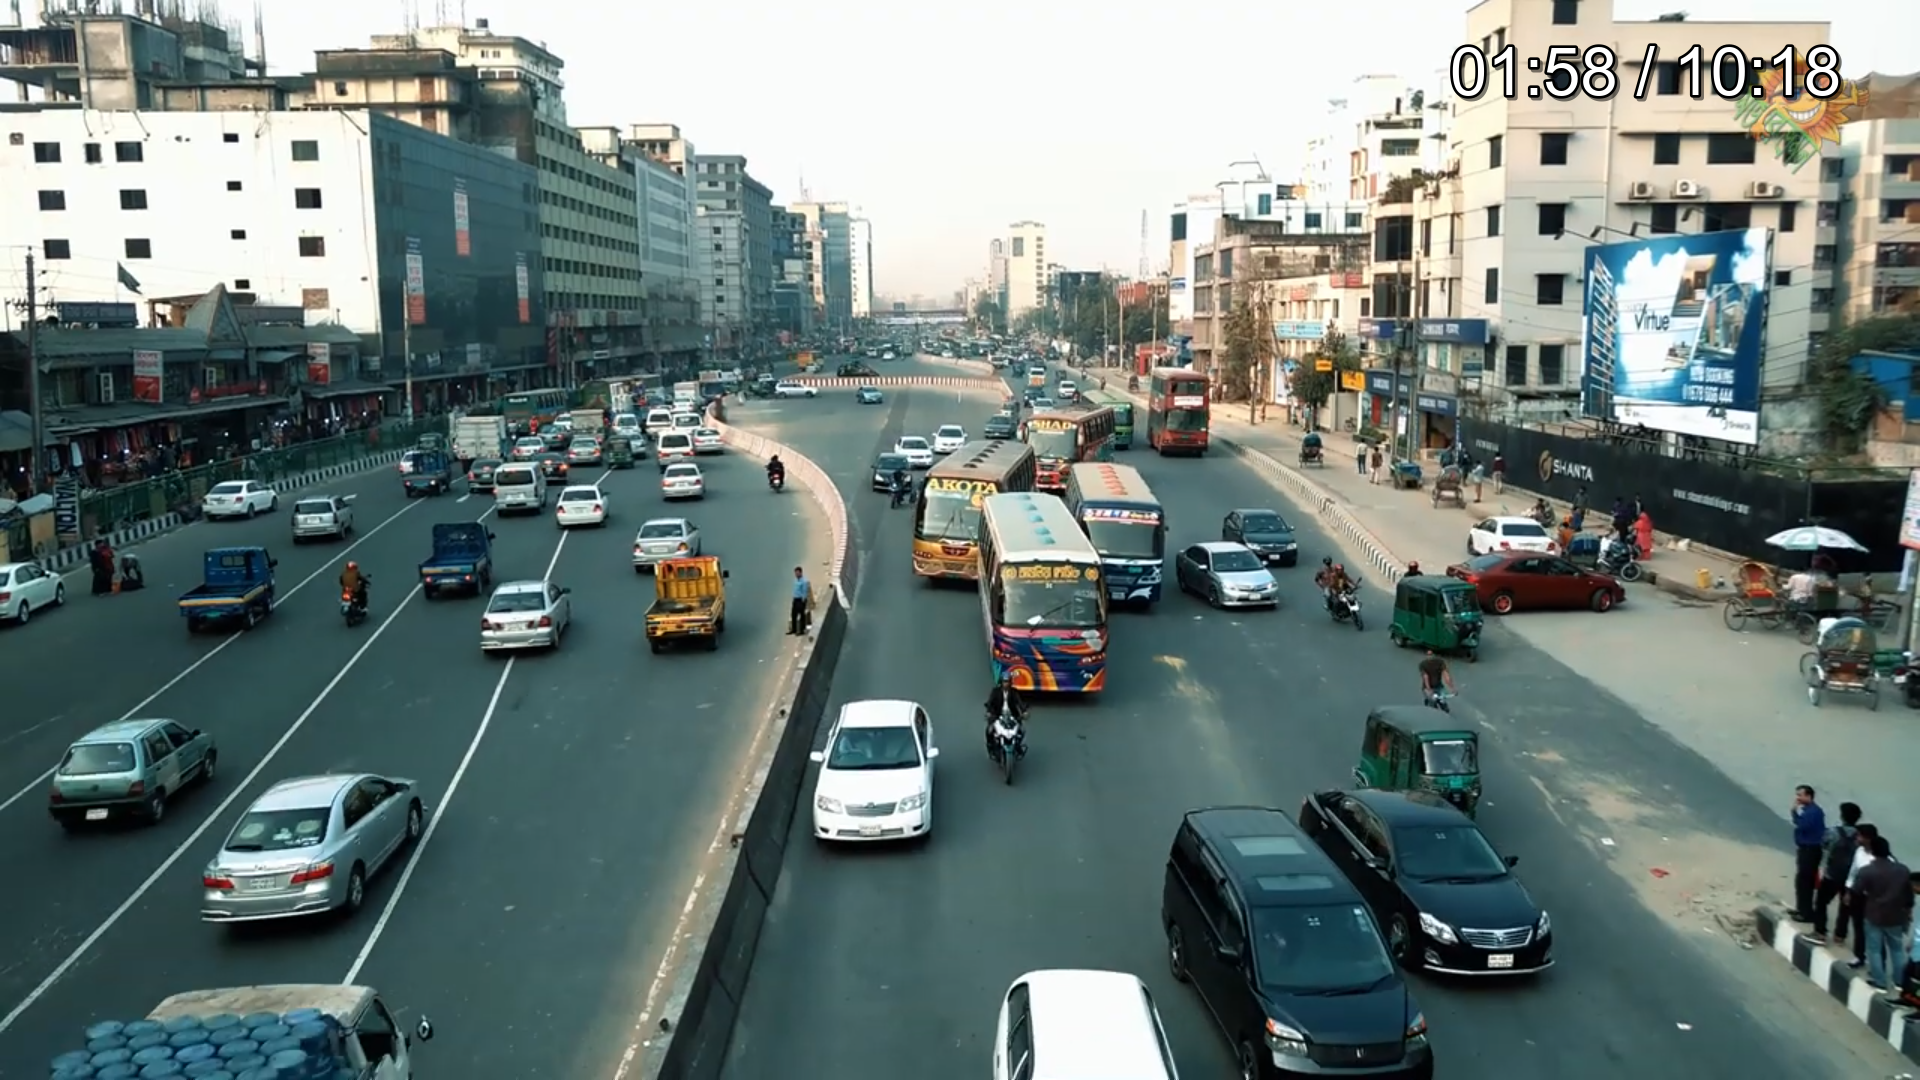HeavyVehicle: (981, 495, 1114, 703), (1112, 462, 1168, 621), (911, 465, 982, 584), (1145, 367, 1222, 463), (1022, 407, 1122, 462)
LightVehicle: (1156, 803, 1432, 1080), (204, 765, 433, 951), (1387, 796, 1563, 988), (992, 961, 1179, 1080), (814, 687, 944, 855), (51, 719, 214, 840), (1481, 554, 1633, 616), (178, 545, 276, 641), (1390, 568, 1485, 666), (644, 556, 735, 654), (1419, 712, 1498, 822), (1179, 541, 1288, 617), (483, 578, 582, 662), (419, 512, 487, 607), (556, 484, 612, 531), (651, 462, 711, 504)
MotorCycle: (976, 665, 1033, 800), (1312, 549, 1371, 645), (326, 558, 378, 636), (761, 454, 787, 496), (887, 465, 910, 512)
